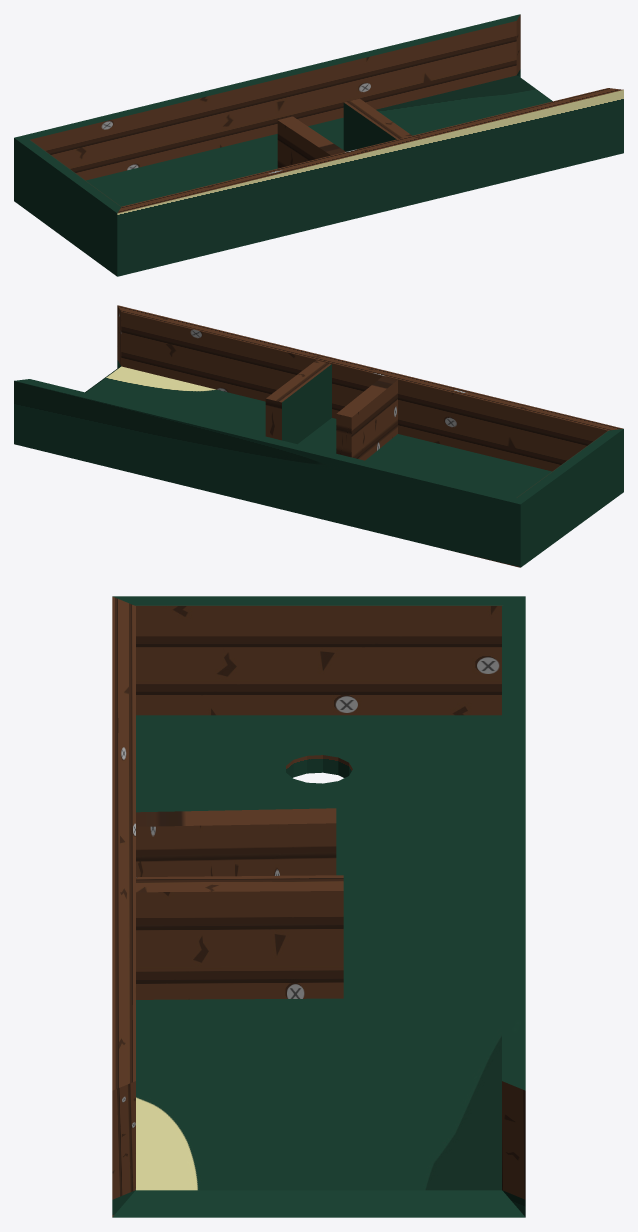
Rendered from platform 1 golf.fbx.
3 renders of one model, top to bottom at view 1: azimuth 30°, elevation 25°; view 2: azimuth 150°, elevation 25°; view 3: azimuth 270°, elevation 25°, orthographic. The views are drawn at different scales.
Parts seen in each view (by area): view 1: platform 1; view 2: platform 1; view 3: platform 1.
Boxes of the visible parts, x1,y1,x2,y2 form: platform 1: [14, 14, 623, 276]; platform 1: [14, 305, 623, 567]; platform 1: [112, 596, 525, 1217].
Size of the model in its own units: 761 by 91 by 269.
